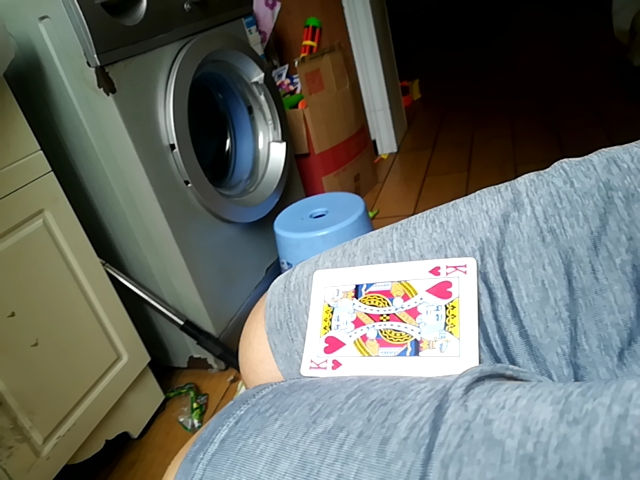hx k: (297, 257, 479, 380)
